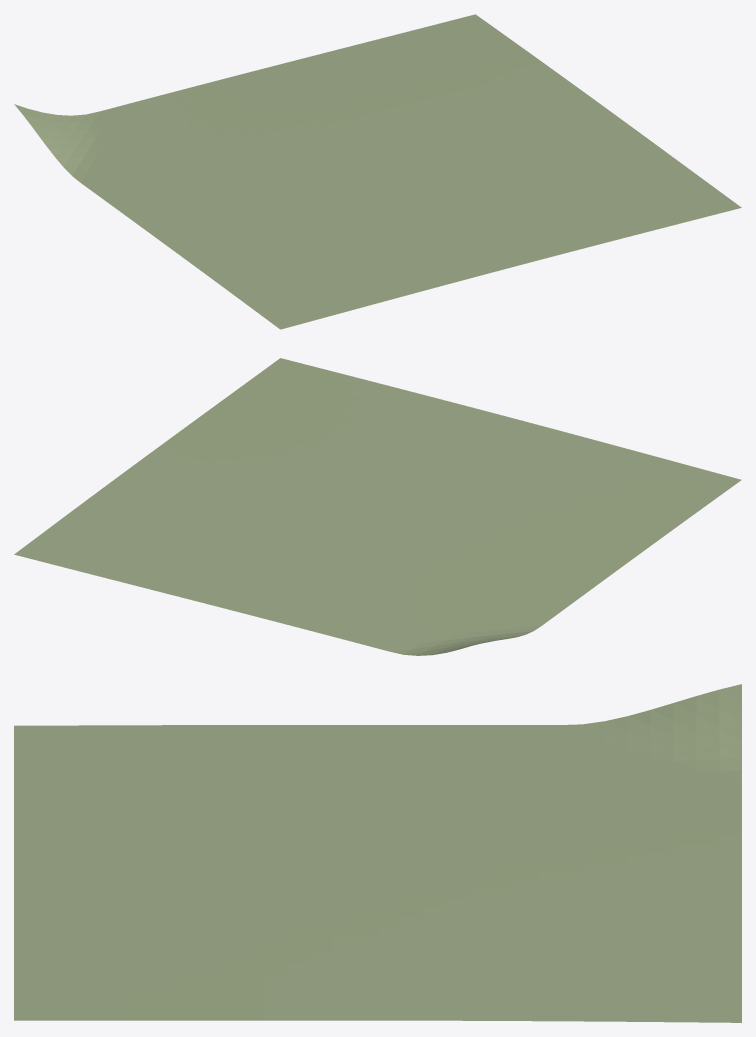
The model's file is desert-21-27.glb.
3 views of the same model, one above another, from view 1: azimuth 30°, elevation 25°; view 2: azimuth 150°, elevation 25°; view 3: azimuth 270°, elevation 25° (orthographic). The views are drawn at different scales.
Visible parts, largest first — view 1: desert-21-27; view 2: desert-21-27; view 3: desert-21-27.
Boxes of the visible parts, bbox=[...] form: desert-21-27: bbox=[14, 14, 741, 329]; desert-21-27: bbox=[14, 358, 741, 655]; desert-21-27: bbox=[14, 684, 741, 1022].
Size of the model in its own units: 512 by 32.41 by 512.
